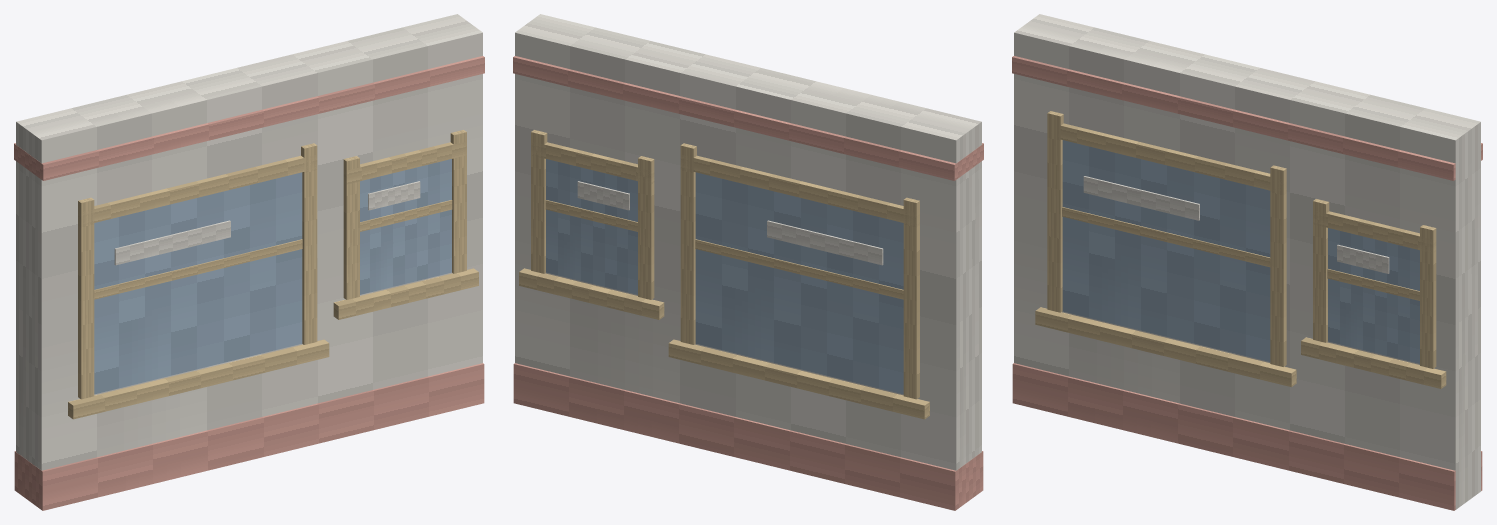
File: pixel-modern-city-street-window-bay-render-854e0f3f__29009.glb
The picture shows the model from 3 angles, left to right: view 1: azimuth 30°, elevation 25°; view 2: azimuth 150°, elevation 25°; view 3: azimuth 330°, elevation 25°; orthographic projection.
Parts seen in each view (by area): view 1: window-bay-render; view 2: window-bay-render; view 3: window-bay-render.
Part boxes in pixels (left/top/right/bottom): window-bay-render: left=14, top=14, right=484, bottom=510; window-bay-render: left=513, top=14, right=983, bottom=510; window-bay-render: left=1012, top=14, right=1482, bottom=510.
Bounding box in the file's own units: 4 × 3.2 × 0.5599.
4 materials, 4 textured.
